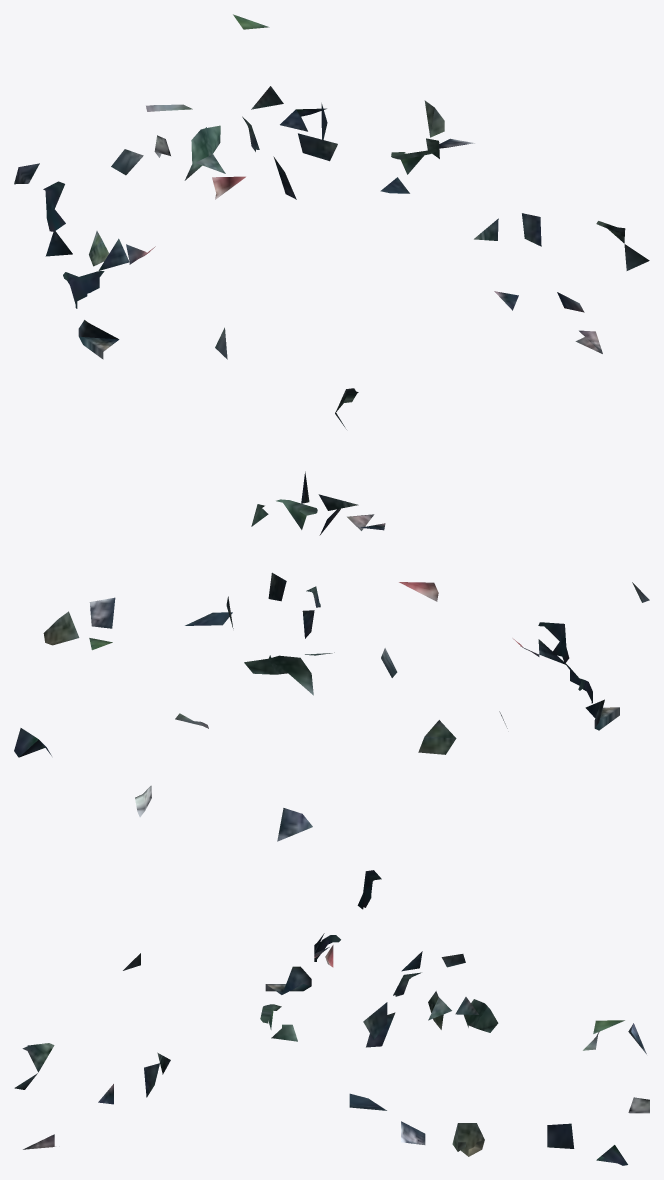
3 views of the same model, one above another, from view 1: azimuth 30°, elevation 25°; view 2: azimuth 150°, elevation 25°; view 3: azimuth 270°, elevation 25° (orthographic). The views are drawn at different scales.
Parts seen in each view (by area): view 1: 30436272704361516401_1; view 2: 30436272704361516401_1; view 3: 30436272704361516401_1.
Part boxes in pixels (bbox=[...]): 30436272704361516401_1: bbox=[14, 14, 649, 359]; 30436272704361516401_1: bbox=[14, 388, 649, 841]; 30436272704361516401_1: bbox=[14, 870, 649, 1165].
Size of the model in its own units: 27.47 by 8.32 by 36.25.
1 material, 1 textured.
